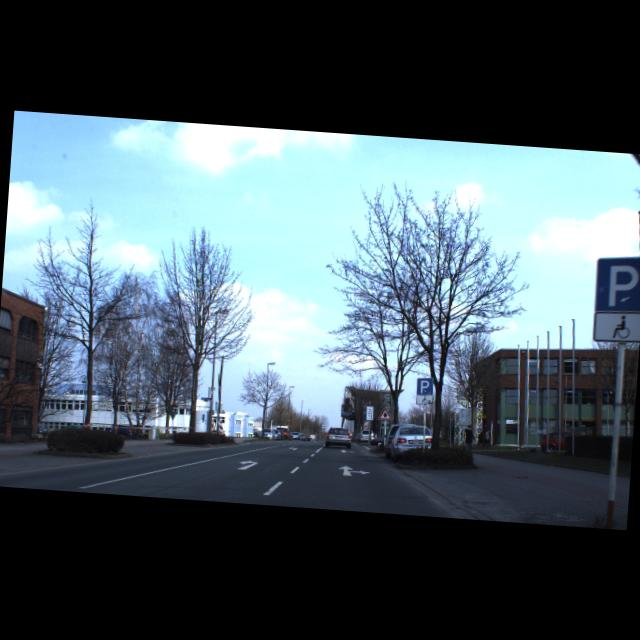danger: (377, 406, 392, 421)
